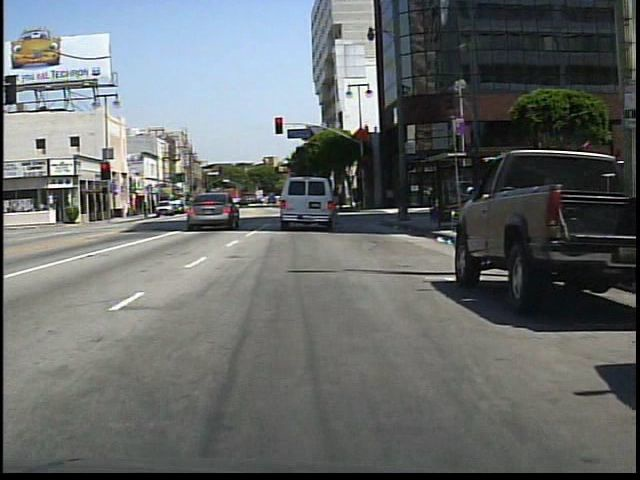person: (321, 182, 343, 224), (210, 193, 224, 218)
